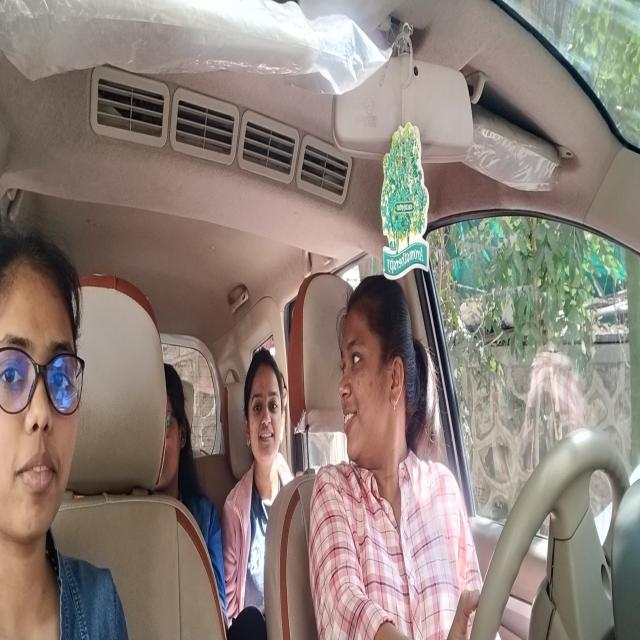LeftRight: (333, 280, 420, 470)
person: (2, 239, 82, 538), (244, 352, 287, 466), (168, 368, 188, 484)
talking: (340, 400, 359, 434)
